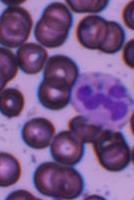N: (71, 70, 132, 130)
